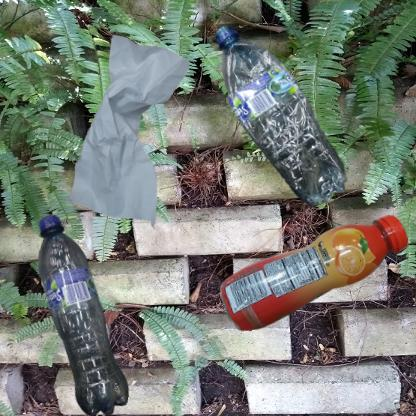botella: (213, 10, 360, 233), (10, 213, 164, 416), (213, 213, 416, 341)
papel: (10, 10, 275, 287)
